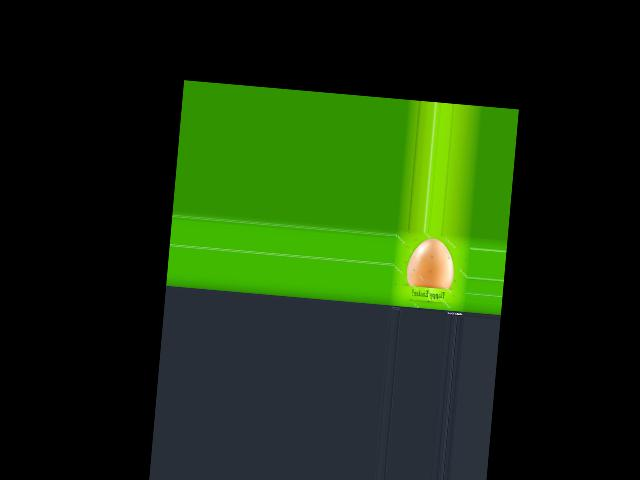egg: (405, 236, 456, 289)
